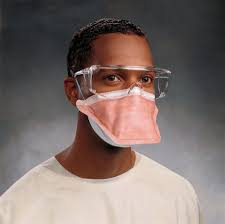mask: (78, 29, 164, 157)
